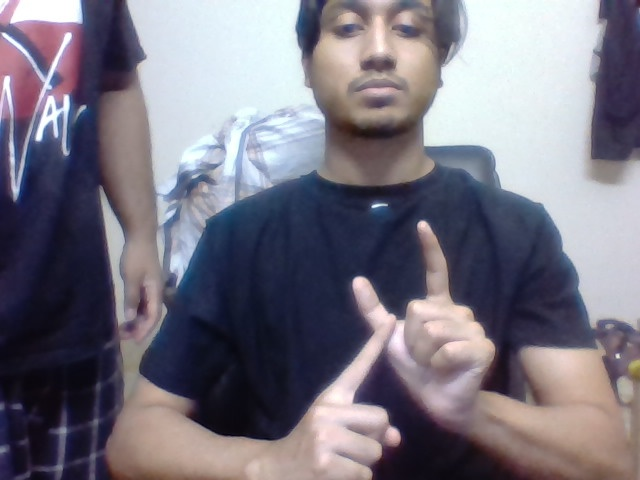Y: (348, 218, 454, 390)
